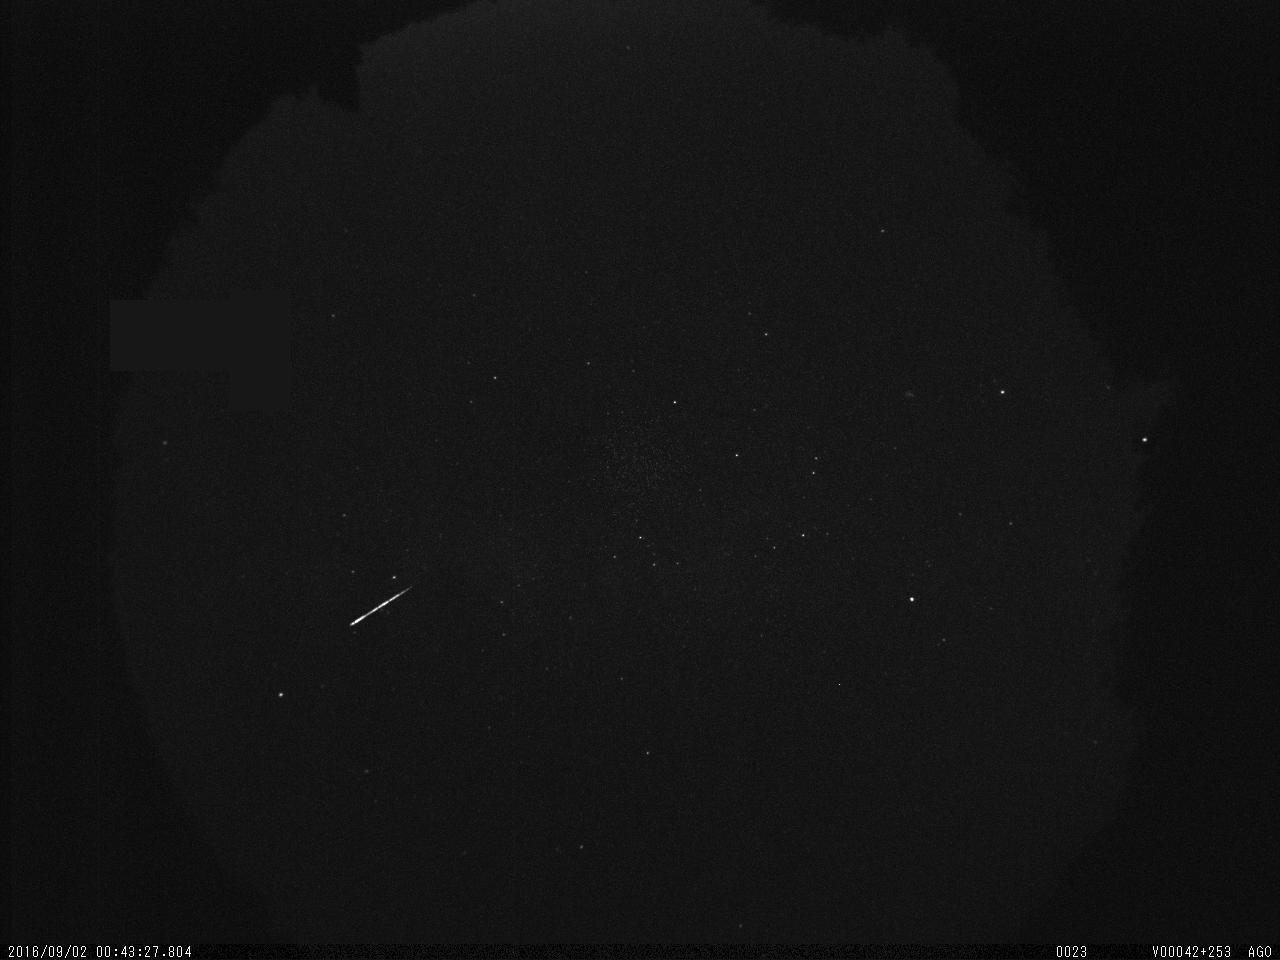Meteor: (339, 575, 422, 635)
